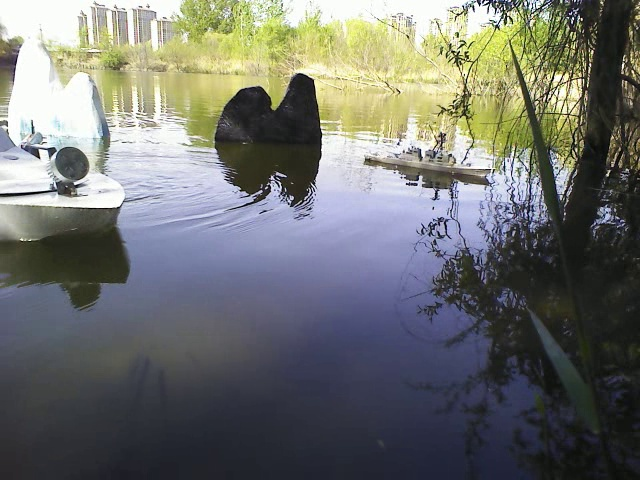boat: (2, 124, 130, 243)
iceberg: (8, 39, 119, 143)
rock: (212, 69, 326, 142)
warship: (364, 142, 497, 183)
